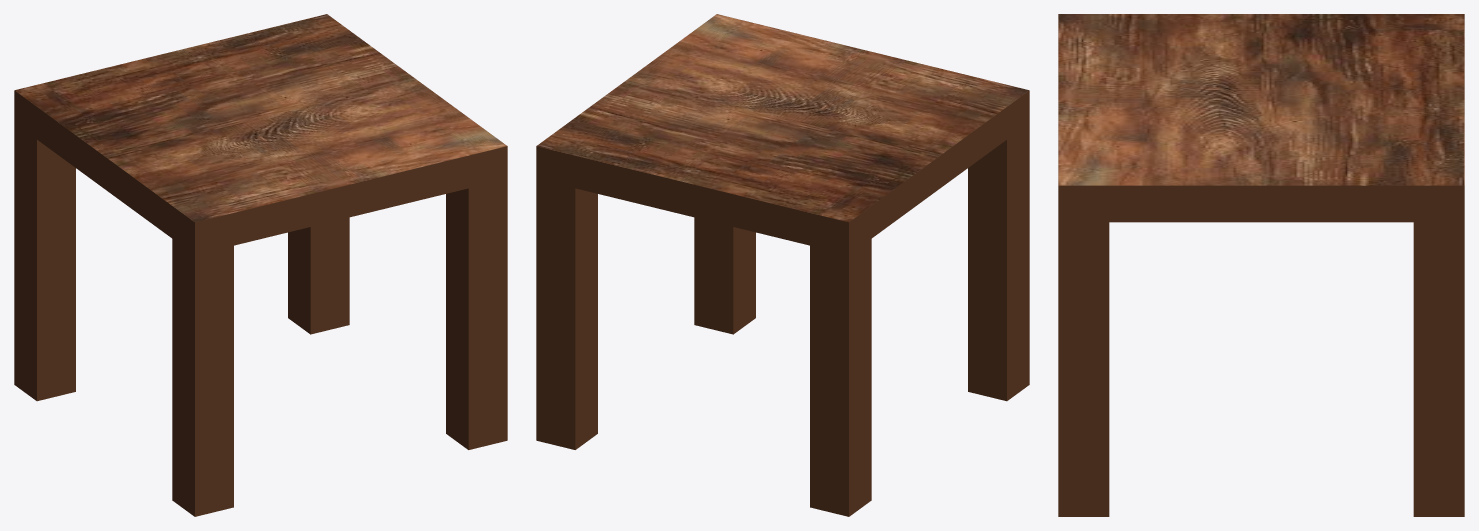
The model's file is table.fbx.
3 renders of one model, left to right at view 1: azimuth 30°, elevation 25°; view 2: azimuth 150°, elevation 25°; view 3: azimuth 270°, elevation 25°, orthographic. The views are drawn at different scales.
Visible parts, largest first — view 1: Cube; view 2: Cube; view 3: Cube.
Boxes of the visible parts, x1,y1,x2,y2 form: Cube: (14, 14, 507, 516); Cube: (536, 14, 1029, 516); Cube: (1058, 14, 1464, 516).
Size of the model in its own units: 1000 by 900 by 1000.
